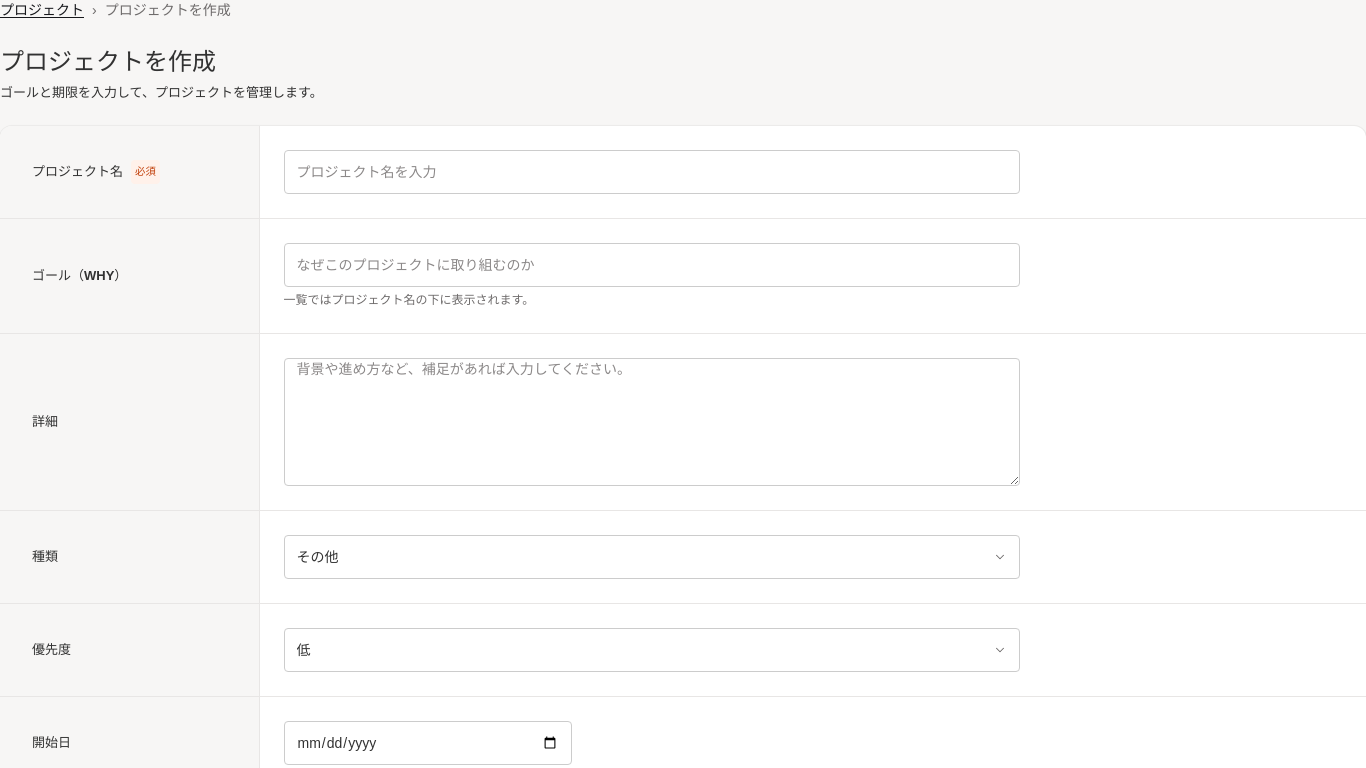
it: preserves a dirty draft until the user confirms leaving
Type "A draft" into the field labelled "プロジェクト名 必須".
click(652, 172); type("A draft")  # box [284,150,1020,194]
(page scrolled)
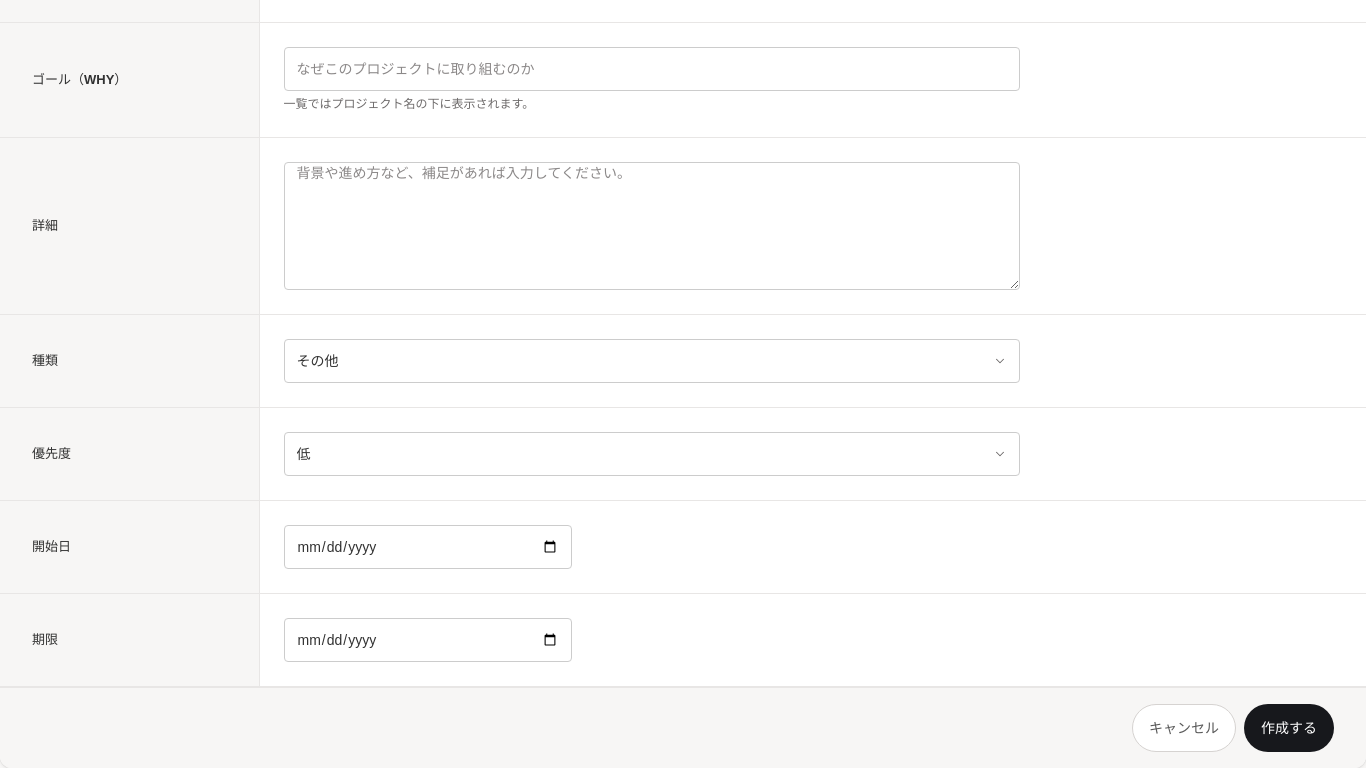
Click the button "キャンセル".
click(1184, 728)  # box [1132,704,1236,752]
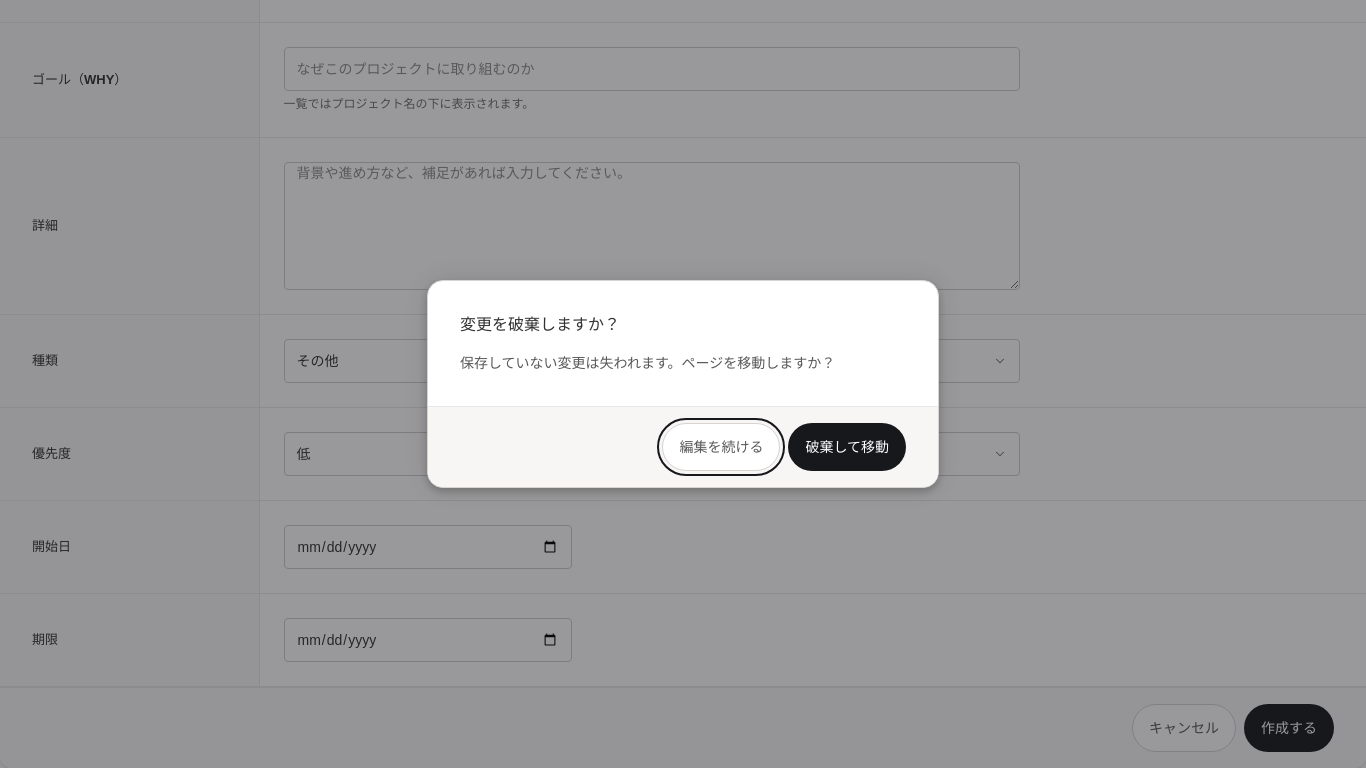
Click the button "編集を続ける".
click(721, 447)  # box [662,423,780,471]
(page scrolled)
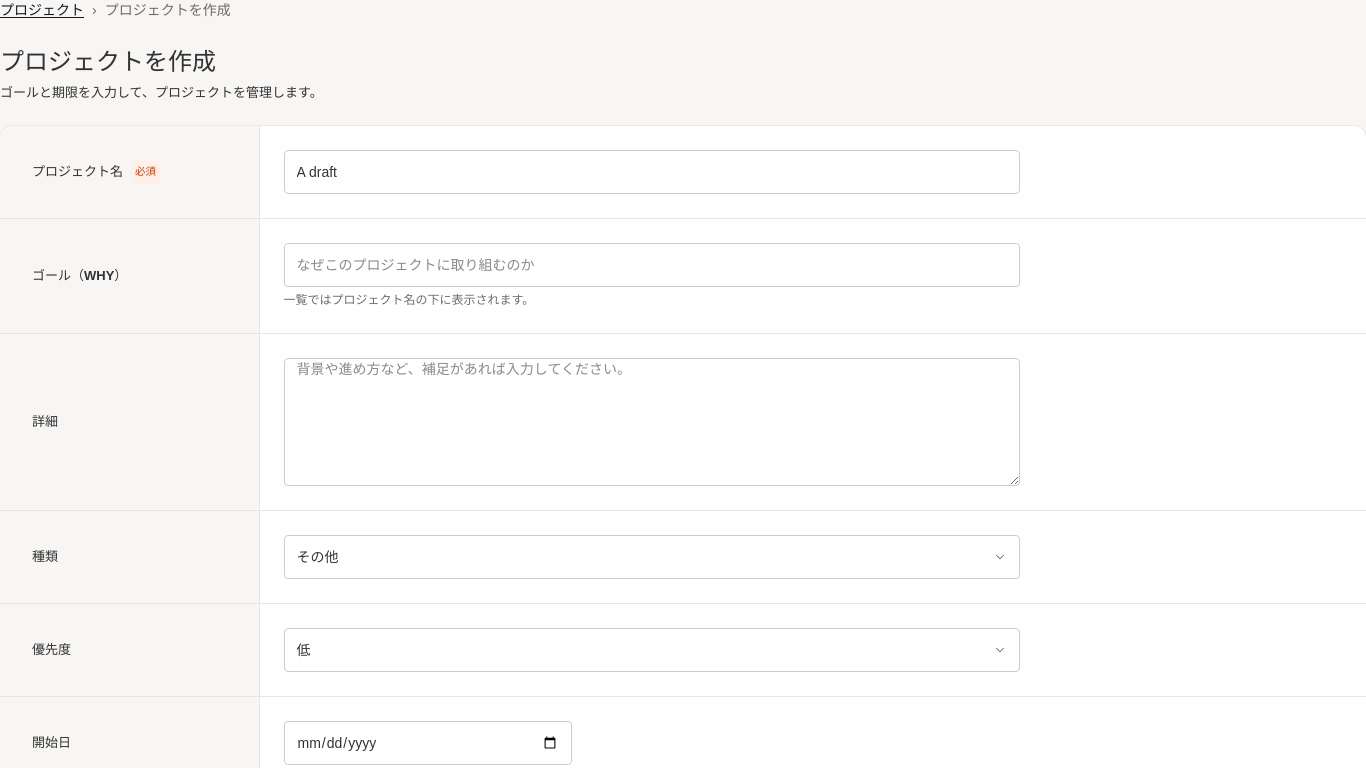
Expected: the dialog is gone
